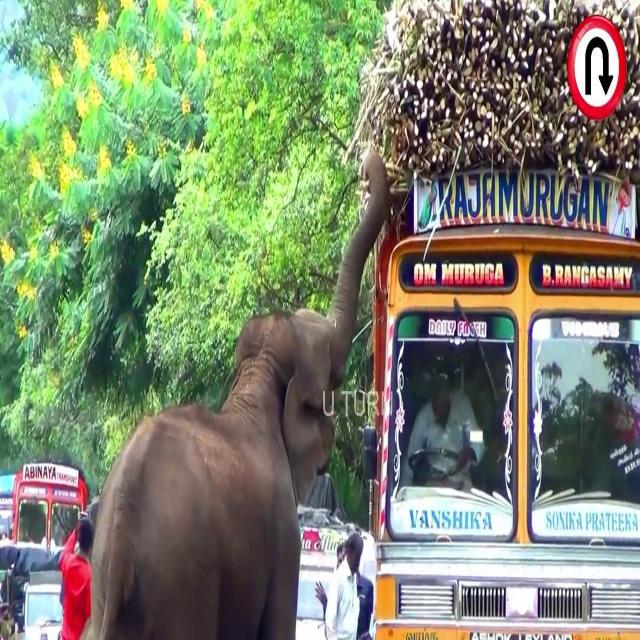Elephant: (88, 150, 390, 631)
